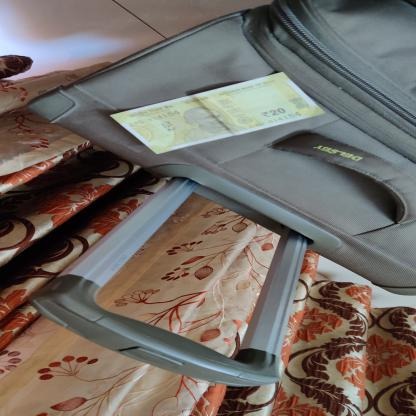New20Front: (109, 72, 328, 155)
